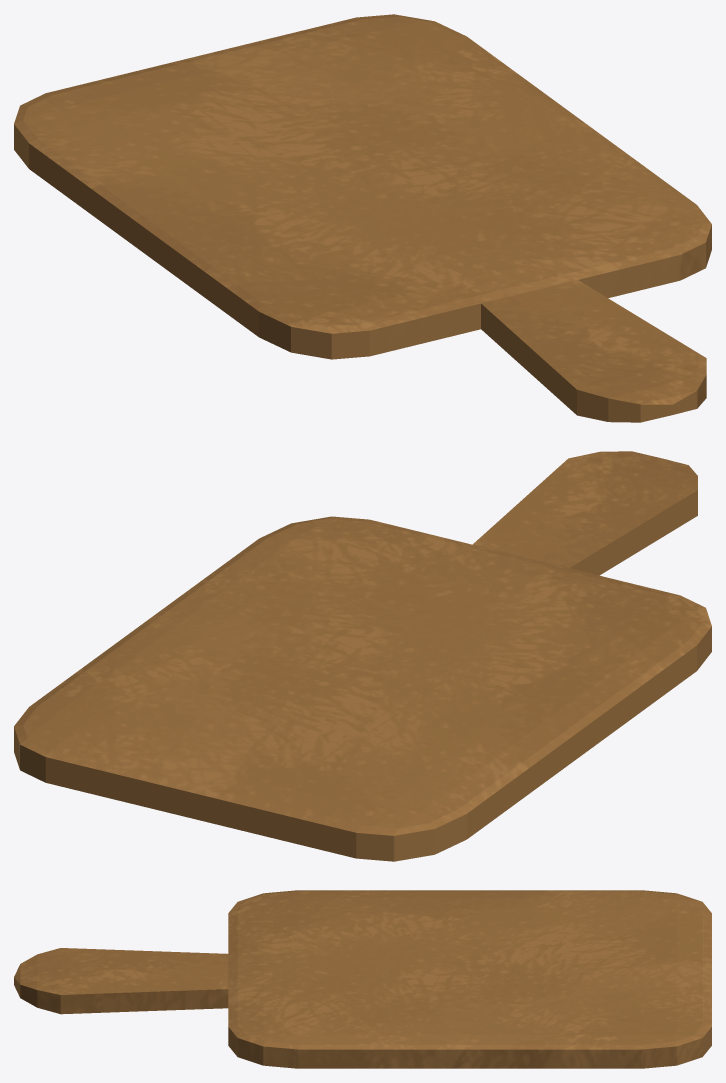
The model's file is Tabla (1).fbx.
The picture shows the model from 3 angles, top to bottom: view 1: azimuth 30°, elevation 25°; view 2: azimuth 150°, elevation 25°; view 3: azimuth 270°, elevation 25°; orthographic projection. The views are drawn at different scales.
Parts seen in each view (by area): view 1: Cube; view 2: Cube; view 3: Cube.
Boxes of the visible parts, <box> form: Cube: <box>14,14,711,422</box>; Cube: <box>14,451,711,861</box>; Cube: <box>14,890,711,1068</box>.
Bounding box in the file's own units: 59.34 × 4.71 × 110.
Materials: 1 (1 with a texture image).
